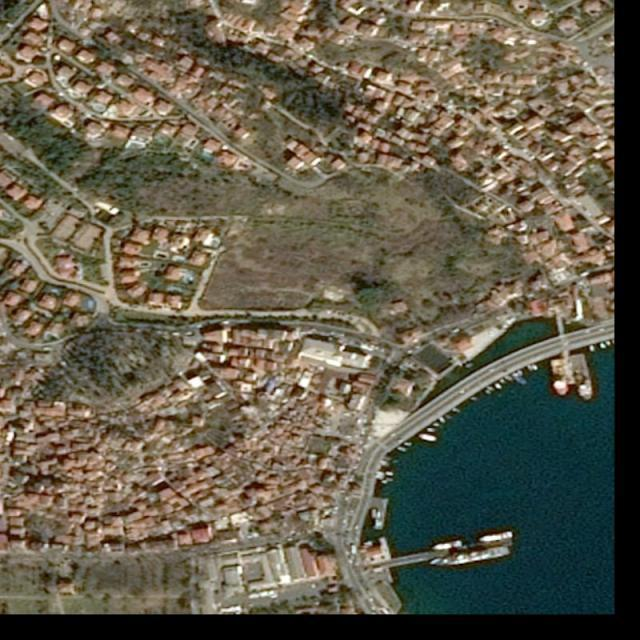ship: (430, 545, 512, 568), (568, 353, 598, 402), (551, 358, 571, 397), (472, 531, 510, 543), (432, 540, 462, 552), (513, 373, 527, 386), (419, 433, 437, 443), (531, 362, 539, 372), (586, 345, 596, 353), (493, 382, 501, 391), (598, 342, 606, 350), (382, 479, 391, 486), (370, 509, 376, 519), (426, 427, 436, 433), (386, 470, 394, 477), (516, 370, 522, 377), (485, 390, 492, 396), (439, 418, 446, 424)
